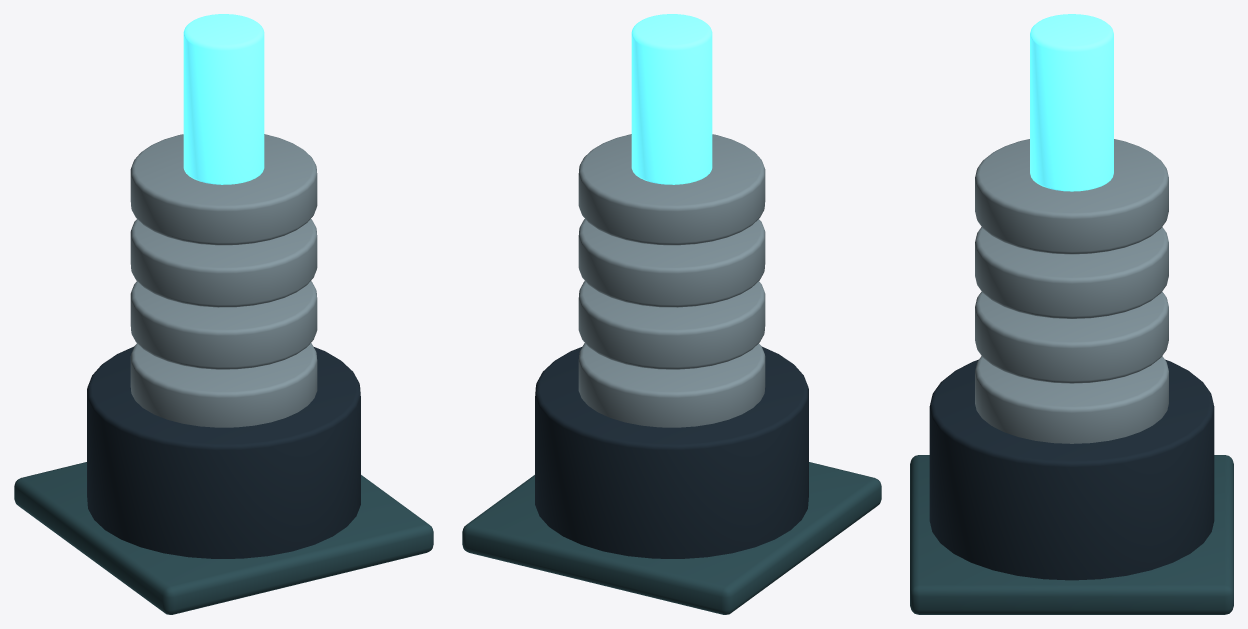
File: arc_electrode.glb
3 renders of one model, left to right at view 1: azimuth 30°, elevation 25°; view 2: azimuth 150°, elevation 25°; view 3: azimuth 270°, elevation 25°, orthographic. The views are drawn at different scales.
Parts seen in each view (by area): view 1: Ceramic coil, Insulated coil base, Floor bolts, Electrode tip; view 2: Ceramic coil, Insulated coil base, Floor bolts, Electrode tip; view 3: Ceramic coil, Insulated coil base, Floor bolts, Electrode tip.
Boxes of the visible parts, x1,y1,x2,y2 form: Ceramic coil: (130, 134, 317, 427); Insulated coil base: (87, 346, 360, 558); Floor bolts: (14, 462, 433, 614); Electrode tip: (183, 14, 264, 184); Ceramic coil: (578, 134, 765, 427); Insulated coil base: (535, 346, 808, 558); Floor bolts: (462, 462, 881, 614); Electrode tip: (631, 14, 712, 184); Ceramic coil: (975, 139, 1168, 443); Insulated coil base: (929, 359, 1214, 580); Floor bolts: (910, 455, 1233, 614); Electrode tip: (1030, 14, 1113, 191).
Bounding box in the file's own units: 1 × 1.77 × 1.
